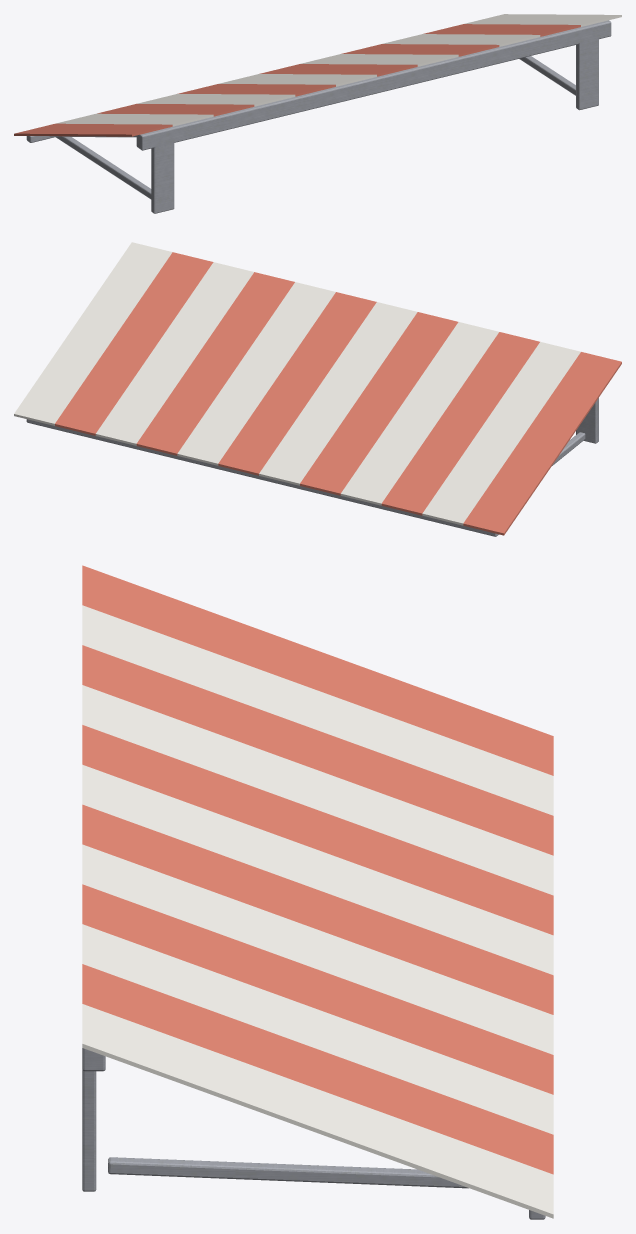
The model's file is awning_240.glb.
3 renders of one model, top to bottom at view 1: azimuth 30°, elevation 25°; view 2: azimuth 150°, elevation 25°; view 3: azimuth 270°, elevation 25°, orthographic. The views are drawn at different scales.
Parts seen in each view (by area): view 1: awning_240-col; view 2: awning_240-col; view 3: awning_240-col.
Boxes of the visible parts, bbox=[...] form: awning_240-col: bbox=[14, 14, 621, 213]; awning_240-col: bbox=[14, 242, 621, 536]; awning_240-col: bbox=[82, 565, 553, 1219].
Bounding box in the file's own units: 2.4 × 0.4375 × 1.
Materials: 3 (1 with a texture image).
